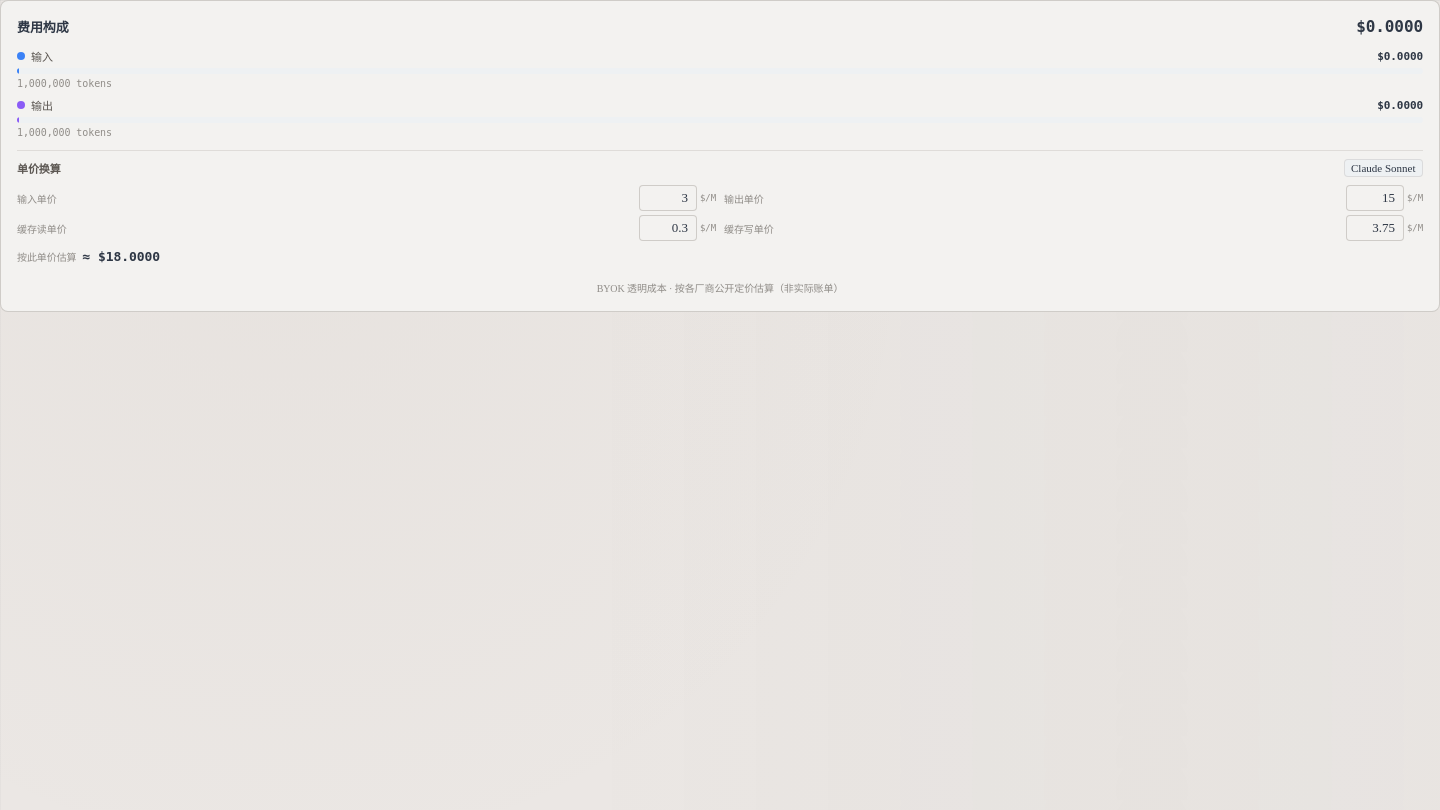
Test: CostBreakdownCard — transparent breakdown › recomputes the estimate when a different preset is chosen
Expected: the text "≈ $18.0000" is shown, [82,249,160,264]
Select "DeepSeek" in the dropdown named "模型单价预设" at x=1384, y=168, box [1344,159,1423,177]
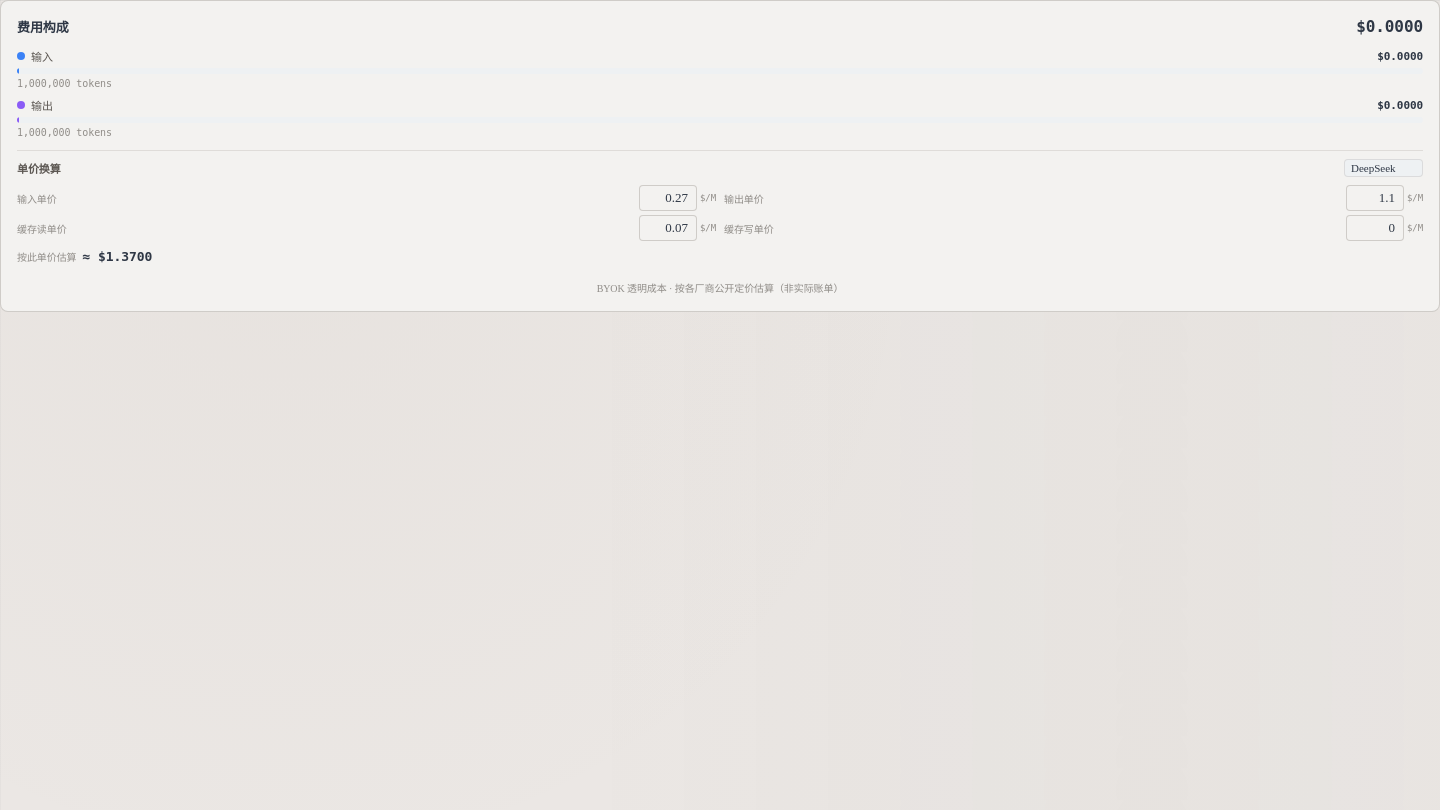
Expected: the text "≈ $1.3700" is shown, [82,249,152,264]
